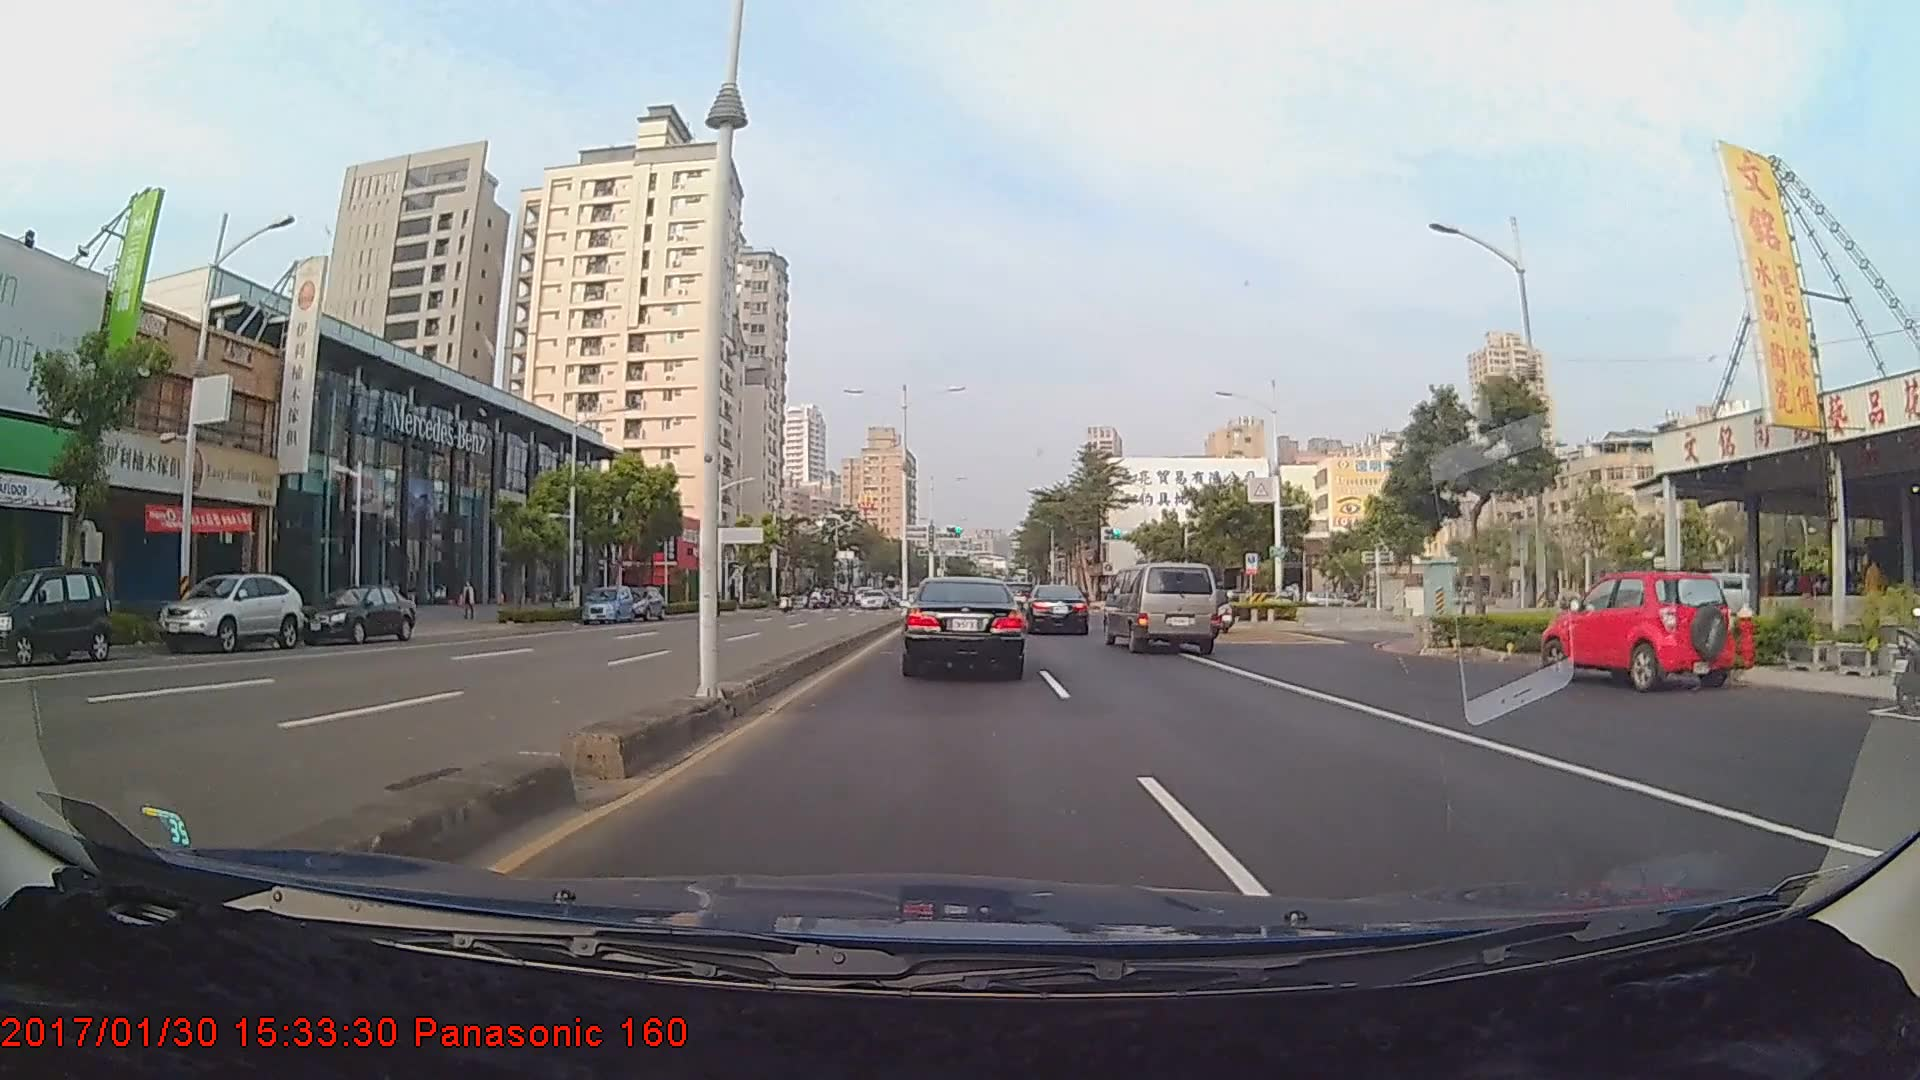pedestrian: (1864, 557, 1886, 636), (459, 579, 479, 621)
vehicle: (1560, 569, 1729, 692), (903, 576, 1024, 677), (155, 568, 299, 651), (0, 563, 111, 665), (1104, 562, 1219, 653), (293, 584, 417, 645), (1020, 583, 1091, 636), (581, 584, 634, 624), (621, 586, 660, 621), (859, 586, 888, 608)
